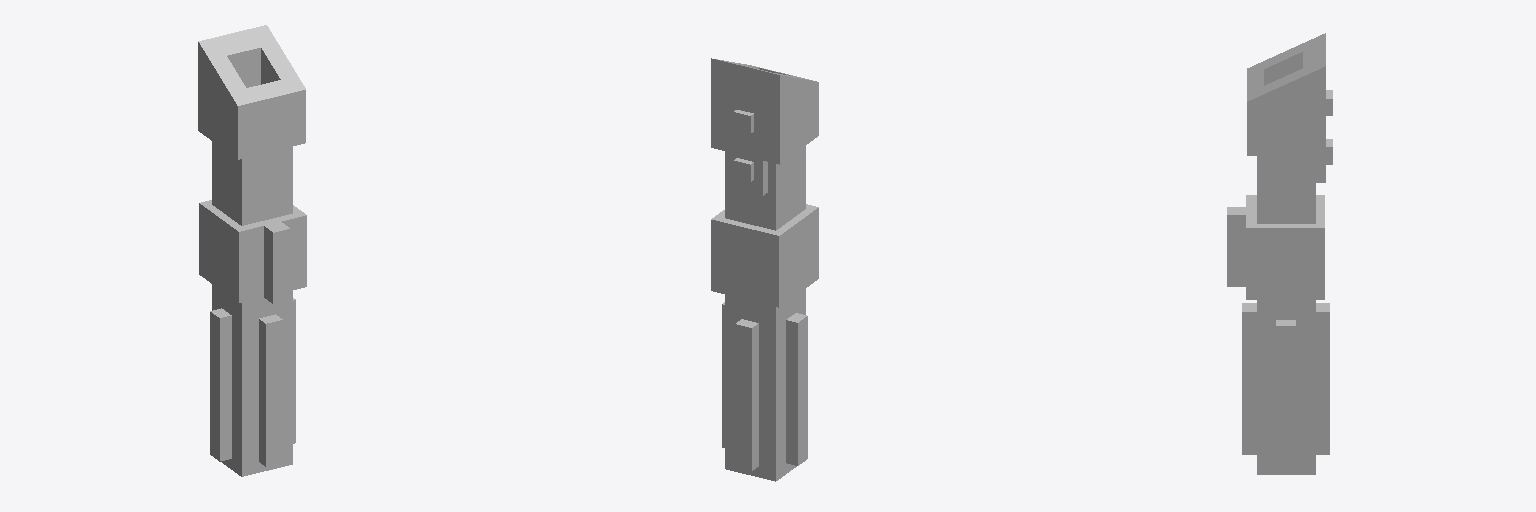
Rendered from Vader(1).obj.
3 views of the same model, side by side, from view 1: azimuth 30°, elevation 25°; view 2: azimuth 150°, elevation 25°; view 3: azimuth 270°, elevation 25° (orthographic).
Visible parts, largest first — view 1: Plane.001_Plane.012; view 2: Plane.001_Plane.012; view 3: Plane.001_Plane.012.
Part boxes in pixels (bbox=[...]): Plane.001_Plane.012: bbox=[198, 25, 306, 476]; Plane.001_Plane.012: bbox=[711, 58, 818, 481]; Plane.001_Plane.012: bbox=[1227, 33, 1332, 474].
Size of the model in its own units: 0.445 by 2.3 by 0.5356.